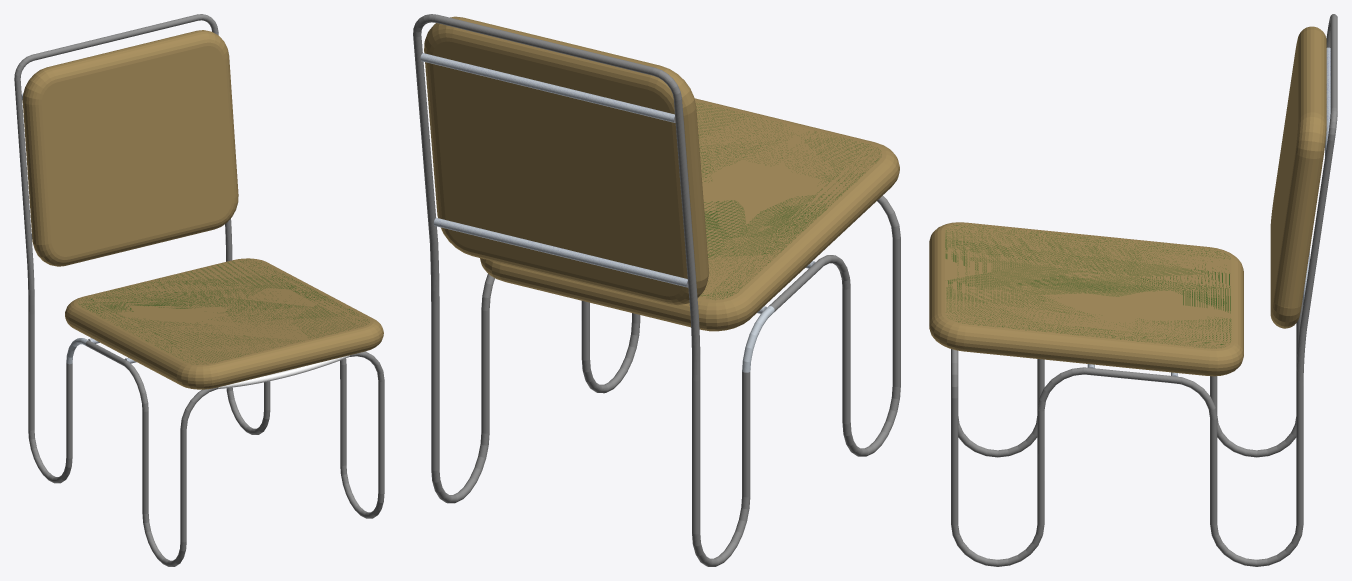
File: chair2.dae
The picture shows the model from 3 angles, left to right: view 1: azimuth 30°, elevation 25°; view 2: azimuth 150°, elevation 25°; view 3: azimuth 270°, elevation 25°; orthographic projection. The views are drawn at different scales.
Parts seen in each view (by area): view 1: skps4jYAG (×6); view 2: skps4jYAG (×8); view 3: skps4jYAG (×5).
Part boxes in pixels (bbox=[...]): skps4jYAG (×6): bbox=[14, 14, 384, 566]; skps4jYAG (×8): bbox=[413, 14, 900, 566]; skps4jYAG (×5): bbox=[929, 14, 1337, 566].
Bounding box in the file's own units: 18.5 × 28.39 × 34.5.
